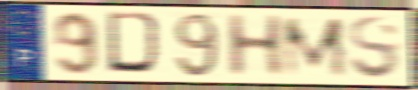9: (170, 11, 221, 80), (51, 10, 100, 77)
D: (105, 9, 168, 78)
H: (223, 12, 287, 79)
M: (280, 15, 351, 78)
S: (346, 14, 402, 82)
